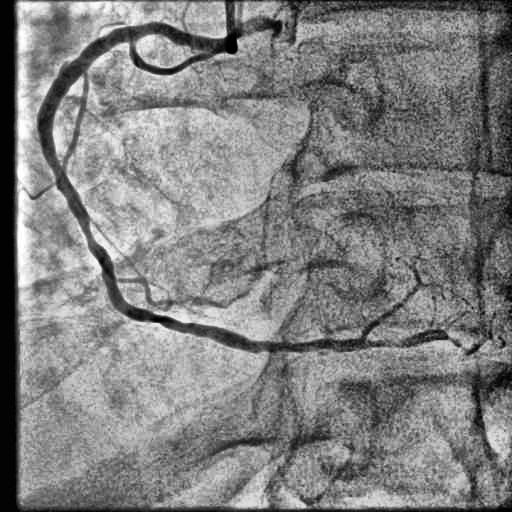pborca: (362, 272, 421, 338)
pda: (367, 330, 476, 354)
rca: (37, 22, 365, 353)
